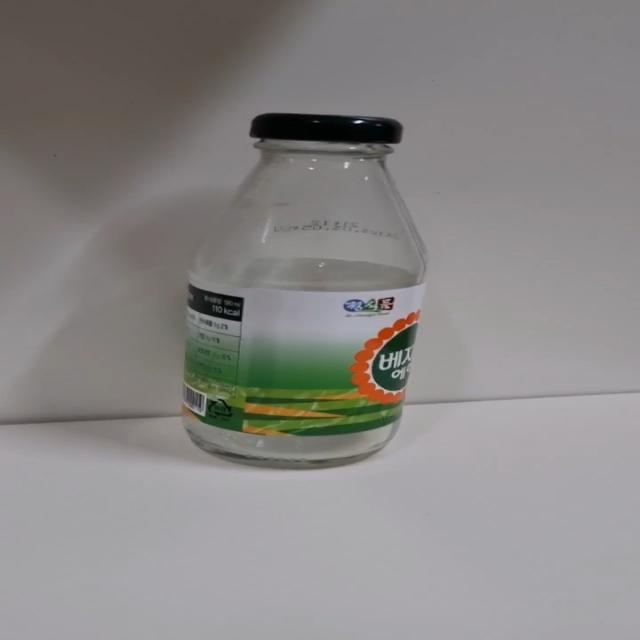Glass: (188, 105, 430, 474)
